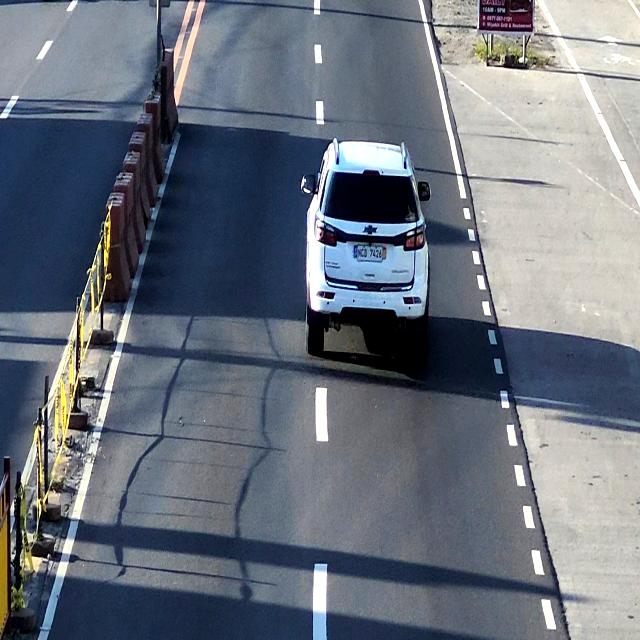Car: (305, 141, 431, 366)
License-Plate: (355, 242, 385, 263)
